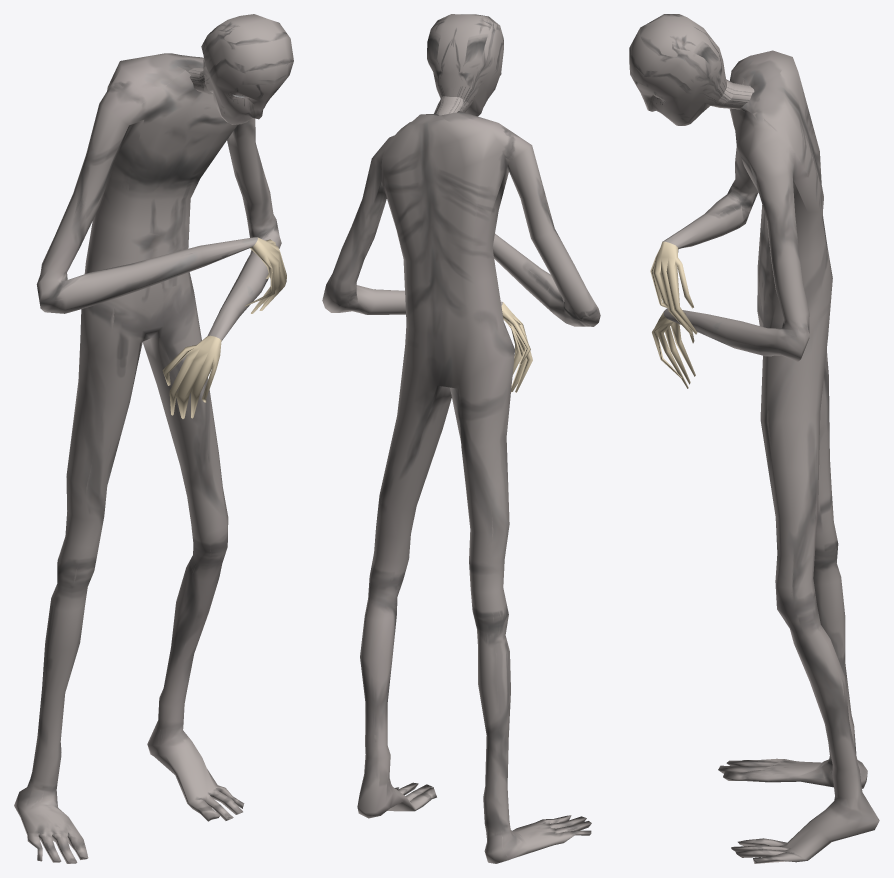
The model's file is phantom.fbx.
The picture shows the model from 3 angles, left to right: view 1: azimuth 30°, elevation 25°; view 2: azimuth 150°, elevation 25°; view 3: azimuth 270°, elevation 25°; orthographic projection. The views are drawn at different scales.
Parts seen in each view (by area): view 1: body, head; view 2: body, head; view 3: body, head.
Boxes of the visible parts, x1,y1,x2,y2 form: body: [14, 53, 286, 863]; head: [188, 14, 293, 124]; body: [322, 111, 600, 863]; head: [427, 14, 503, 116]; body: [650, 50, 879, 863]; head: [629, 14, 754, 125].
Bounding box in the file's own units: 111 × 323 × 88.79.
3 materials, 1 textured.
